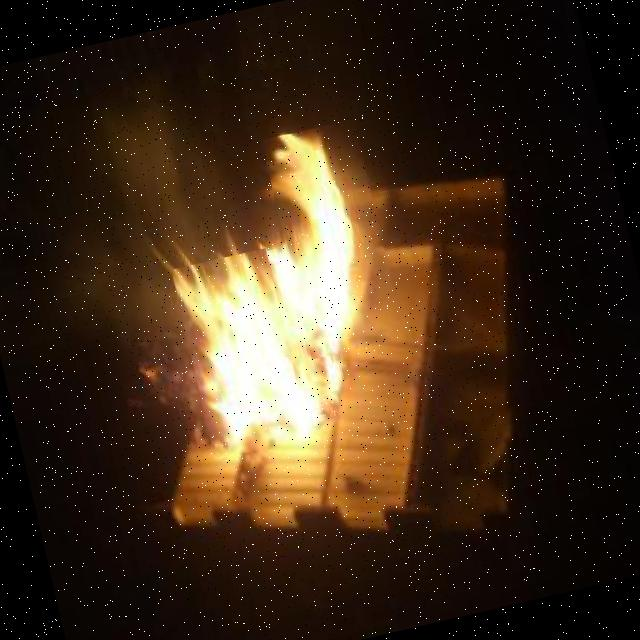fire: (261, 118, 404, 359), (171, 248, 309, 460)
